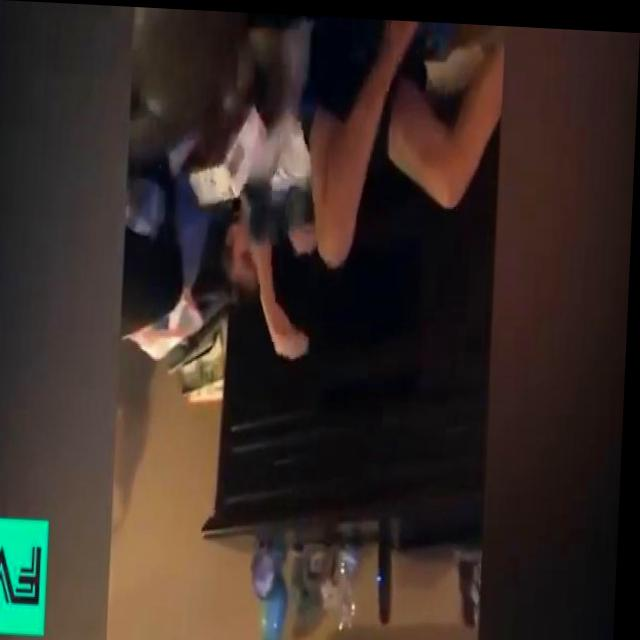fall: (229, 12, 503, 365)
